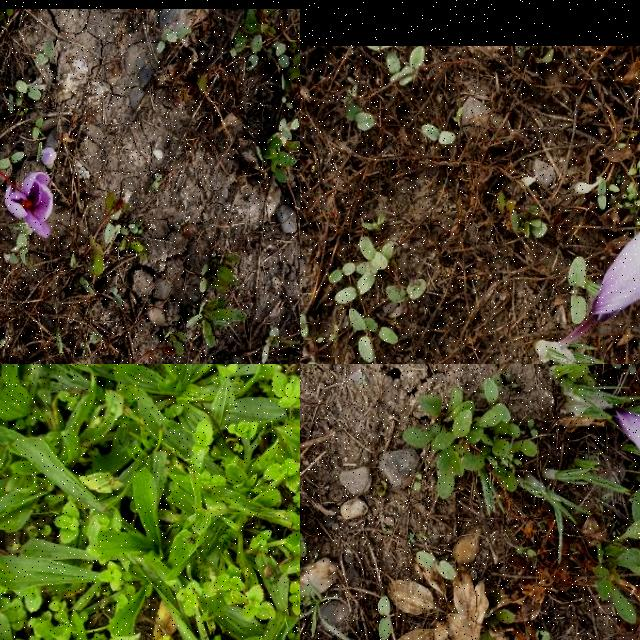flower: (587, 193, 640, 322), (0, 165, 53, 239), (609, 407, 640, 474)
